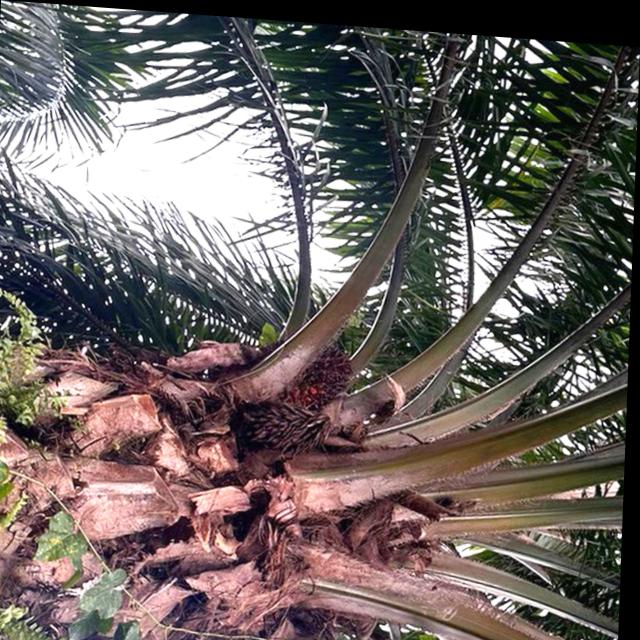ripe: (278, 337, 360, 408)
